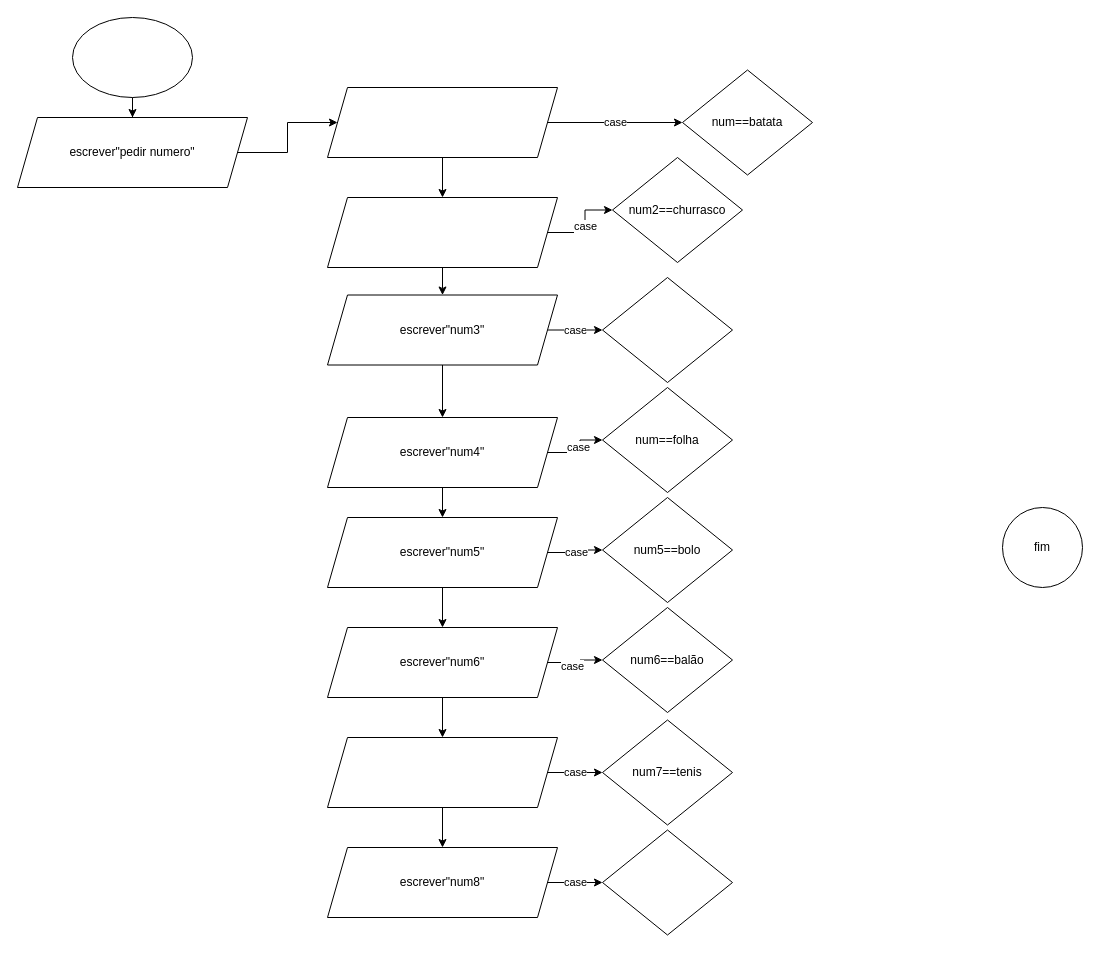
The diagram is 1100 pixels wide and 953 high, and some of its shapes have lost their labels. The shapes that lost their labels are listed below. From the top down, each one's centre as x and y in pixels, then its label:
point 132,57: inicio
point 442,122: escrever"num1"
point 442,232: escrever"num2"
point 667,329: num3==palhaço
point 442,772: escrever"num7"
point 667,882: num8==batata
